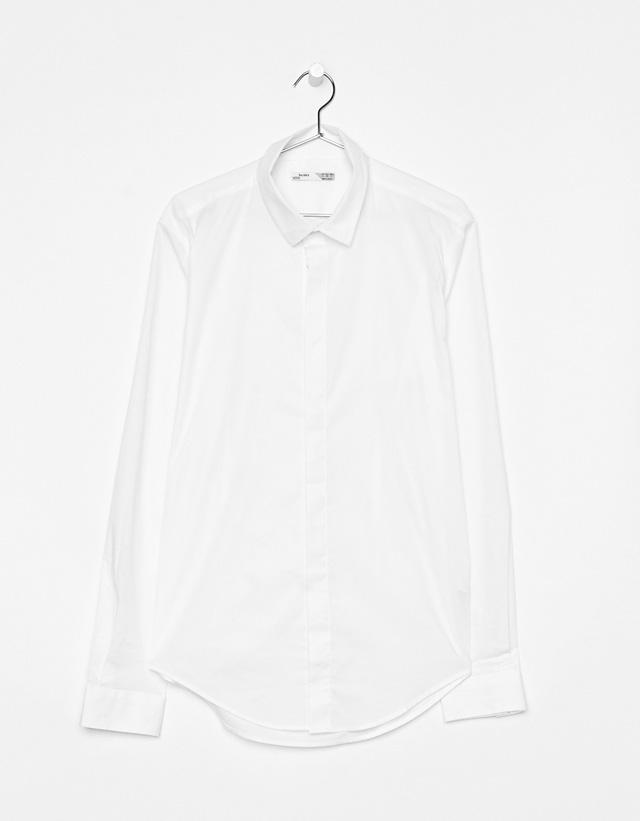teeshirt: (75, 117, 530, 761)
